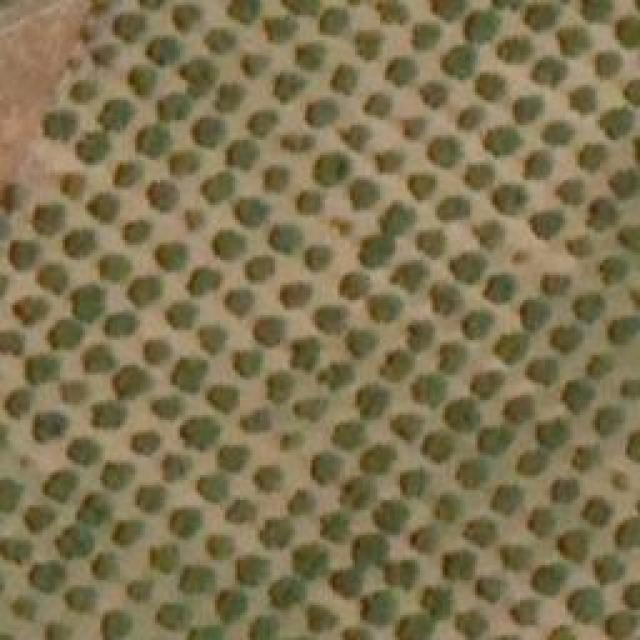Tree: (175, 57, 220, 95), (377, 200, 415, 240), (312, 153, 350, 186), (180, 415, 218, 448), (173, 358, 208, 393), (135, 125, 170, 158), (375, 500, 410, 533), (55, 528, 93, 558), (225, 140, 258, 173), (358, 235, 391, 268), (200, 170, 233, 203), (33, 203, 66, 236), (118, 365, 151, 398), (78, 495, 111, 528), (78, 130, 111, 163), (355, 535, 388, 568), (145, 35, 180, 65), (350, 175, 380, 210), (63, 228, 98, 258), (75, 285, 105, 320), (48, 318, 83, 348), (43, 470, 78, 500), (98, 100, 133, 130), (343, 478, 378, 508), (273, 73, 306, 103), (195, 115, 225, 148), (145, 180, 178, 210), (213, 230, 246, 260), (43, 110, 76, 140), (495, 333, 528, 363), (383, 350, 416, 380), (0, 180, 29, 214), (158, 92, 193, 120), (305, 100, 338, 128), (245, 110, 278, 138), (85, 345, 118, 373), (198, 475, 231, 503), (133, 482, 166, 510), (393, 262, 426, 290), (315, 305, 348, 333), (585, 200, 618, 228), (600, 110, 633, 138), (353, 30, 383, 60), (213, 83, 243, 113), (235, 195, 265, 225), (270, 225, 300, 255), (130, 278, 160, 308), (115, 13, 145, 43), (570, 590, 600, 620), (365, 590, 395, 620), (400, 468, 430, 498), (565, 380, 595, 410), (433, 283, 463, 313), (468, 10, 498, 40), (93, 403, 128, 428), (368, 293, 403, 318), (295, 42, 325, 70), (388, 57, 418, 85), (410, 22, 440, 50), (330, 65, 358, 95), (340, 122, 370, 150), (90, 190, 118, 220), (210, 385, 240, 413), (35, 412, 65, 440), (297, 548, 325, 578), (535, 563, 563, 593), (425, 588, 453, 618), (465, 517, 495, 545), (495, 485, 525, 513), (255, 315, 285, 343), (495, 185, 525, 213), (528, 0, 558, 28), (445, 45, 475, 73), (228, 0, 261, 25), (265, 15, 298, 40), (168, 153, 201, 178), (190, 268, 223, 293), (28, 358, 61, 383), (218, 445, 251, 470), (103, 463, 136, 488), (168, 510, 201, 535), (538, 420, 571, 445), (0, 537, 32, 562), (205, 27, 233, 55), (10, 242, 38, 270), (232, 350, 260, 378), (150, 545, 178, 573), (105, 612, 133, 640), (360, 387, 388, 415), (415, 375, 443, 403), (447, 400, 475, 428), (320, 512, 348, 540), (595, 405, 623, 433), (440, 342, 468, 370), (465, 310, 493, 338), (347, 330, 375, 358), (372, 0, 407, 22), (385, 565, 418, 588), (530, 213, 563, 236), (500, 38, 533, 61), (535, 58, 568, 81), (543, 120, 576, 143), (303, 245, 333, 270), (98, 255, 128, 280), (40, 265, 65, 295), (15, 298, 45, 323), (70, 438, 100, 463), (25, 505, 55, 530), (273, 580, 303, 605), (130, 68, 155, 98), (113, 163, 143, 188), (458, 610, 488, 635), (445, 553, 475, 578), (400, 615, 430, 640), (410, 320, 435, 350), (458, 255, 488, 280), (523, 300, 548, 330), (553, 325, 583, 350), (610, 318, 640, 343), (558, 28, 588, 53), (513, 98, 543, 123), (175, 2, 200, 30), (365, 93, 393, 118), (280, 133, 315, 153), (157, 243, 185, 268), (245, 258, 273, 283), (202, 325, 230, 350), (223, 500, 258, 520), (32, 563, 60, 588), (240, 558, 268, 583), (70, 78, 98, 103), (595, 558, 623, 583), (560, 532, 585, 560), (425, 435, 453, 460), (335, 423, 363, 448), (438, 492, 463, 520), (340, 273, 368, 298), (577, 293, 605, 318), (613, 170, 638, 198), (420, 83, 448, 108), (163, 455, 193, 478), (160, 605, 190, 628), (490, 128, 520, 151), (617, 15, 640, 45), (0, 480, 22, 510), (180, 570, 213, 590), (320, 365, 353, 385), (320, 10, 348, 33), (240, 53, 268, 76), (372, 150, 400, 173), (107, 313, 135, 336), (152, 398, 180, 421), (132, 430, 160, 453), (220, 592, 243, 620), (310, 608, 338, 631), (332, 573, 360, 596), (482, 428, 510, 451), (460, 463, 488, 486), (365, 448, 393, 471), (293, 342, 316, 370), (412, 528, 440, 551), (533, 507, 556, 535), (530, 360, 558, 383), (475, 373, 503, 396), (487, 275, 515, 298), (430, 140, 458, 163), (60, 173, 85, 198), (115, 518, 140, 543), (265, 520, 290, 545), (395, 415, 420, 440), (315, 453, 340, 478), (285, 283, 310, 308), (8, 388, 28, 418), (298, 400, 328, 420), (265, 165, 288, 190), (298, 190, 323, 213), (228, 290, 253, 313), (125, 220, 150, 243), (610, 613, 635, 636), (480, 578, 505, 601), (553, 478, 578, 501), (478, 223, 501, 248), (420, 230, 443, 255), (558, 180, 583, 203), (478, 75, 503, 98), (67, 588, 95, 608), (502, 548, 530, 568), (440, 198, 468, 218), (582, 0, 610, 20), (173, 303, 196, 326), (148, 340, 171, 363), (252, 617, 275, 640), (255, 468, 278, 491), (575, 445, 598, 468), (603, 258, 626, 281), (468, 165, 491, 188), (598, 53, 621, 76), (623, 583, 640, 614), (285, 0, 320, 15), (430, 0, 465, 15), (0, 329, 22, 352), (520, 452, 548, 470), (400, 118, 425, 138), (328, 215, 353, 235), (620, 520, 640, 545), (588, 355, 613, 375), (620, 225, 640, 250), (458, 108, 483, 128), (95, 555, 118, 575), (210, 538, 233, 558), (93, 45, 116, 65), (508, 400, 531, 420), (245, 410, 268, 430), (588, 500, 608, 523), (413, 175, 433, 198), (525, 155, 548, 175), (573, 88, 593, 111), (185, 208, 203, 233), (545, 275, 570, 293), (568, 237, 593, 255), (625, 433, 640, 463), (77, 22, 98, 43), (65, 53, 87, 72), (130, 582, 153, 600), (625, 78, 640, 105), (140, 0, 171, 13), (65, 380, 85, 400), (50, 620, 70, 640), (515, 603, 535, 623), (293, 493, 313, 513), (550, 625, 575, 640), (15, 600, 33, 620), (282, 433, 300, 453), (582, 148, 600, 168), (273, 375, 288, 398), (613, 473, 631, 491), (625, 380, 640, 395)
